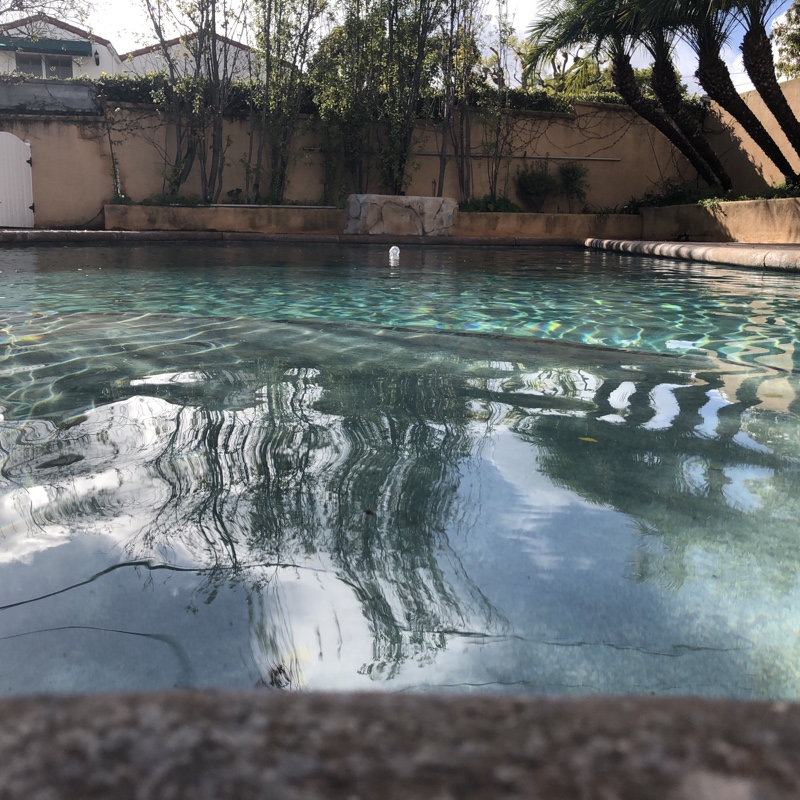Plastic Bottle: (388, 245, 400, 260)
